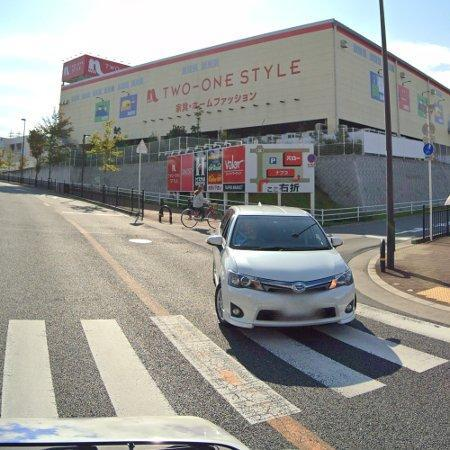crosswalks: (0, 303, 450, 430)
